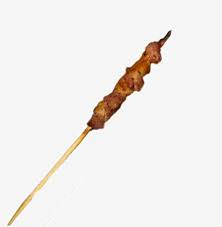Sate ayam: (0, 23, 179, 227)
